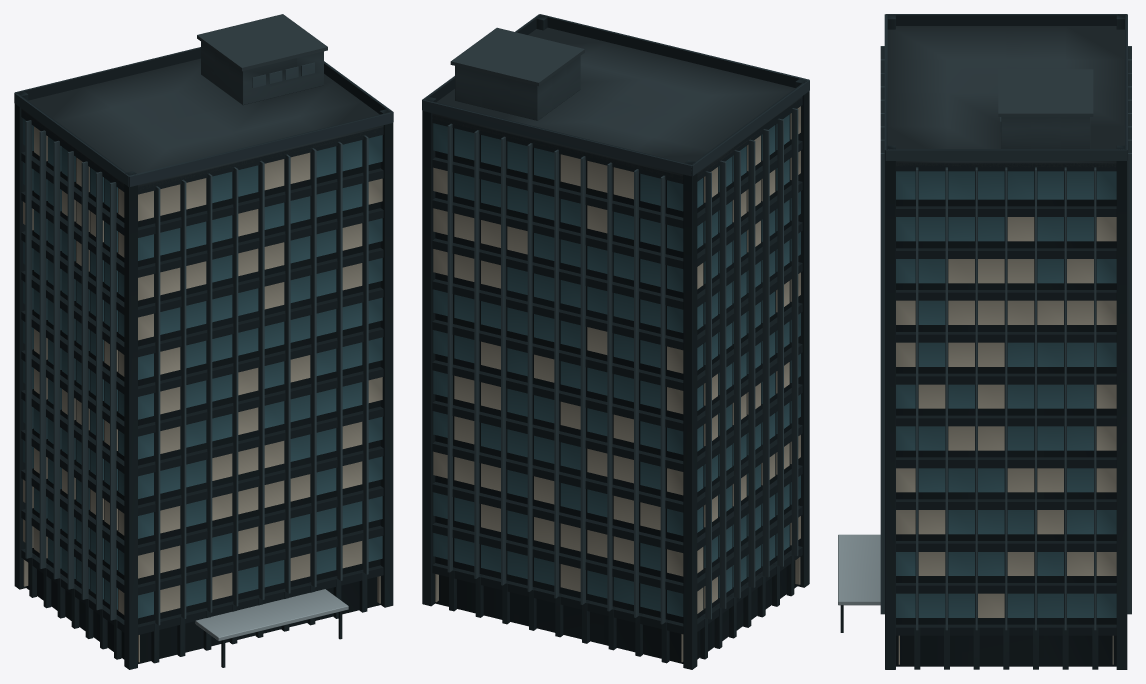
Rendered from district-props-v2.glb.
3 views of the same model, side by side, from view 1: azimuth 30°, elevation 25°; view 2: azimuth 150°, elevation 25°; view 3: azimuth 270°, elevation 25° (orthographic). The views are drawn at different scales.
Parts seen in each view (by area): view 1: Tower, TowerGlass, TowerLit; view 2: Tower, TowerGlass, TowerLit; view 3: Tower, TowerGlass, TowerLit.
Boxes of the visible parts, <box> form: Tower: <box>14,14,393,669</box>; TowerGlass: <box>23,118,382,618</box>; TowerLit: <box>23,126,382,662</box>; Tower: <box>422,14,809,669</box>; TowerGlass: <box>433,114,800,616</box>; TowerLit: <box>433,106,800,662</box>; Tower: <box>838,14,1131,669</box>; TowerGlass: <box>896,171,1116,617</box>; TowerLit: <box>896,217,1116,664</box>.
Size of the model in its own units: 33.4 by 62.22 by 29.7.
